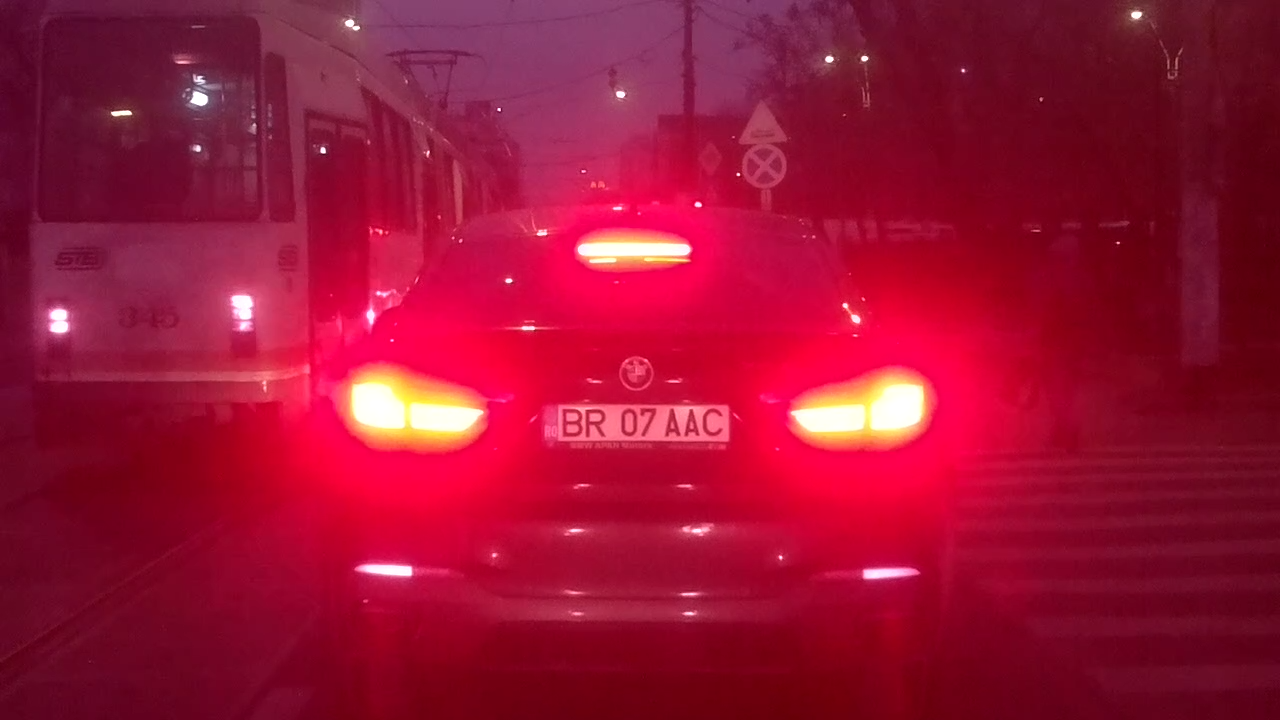license-plate: (537, 397, 735, 448)
